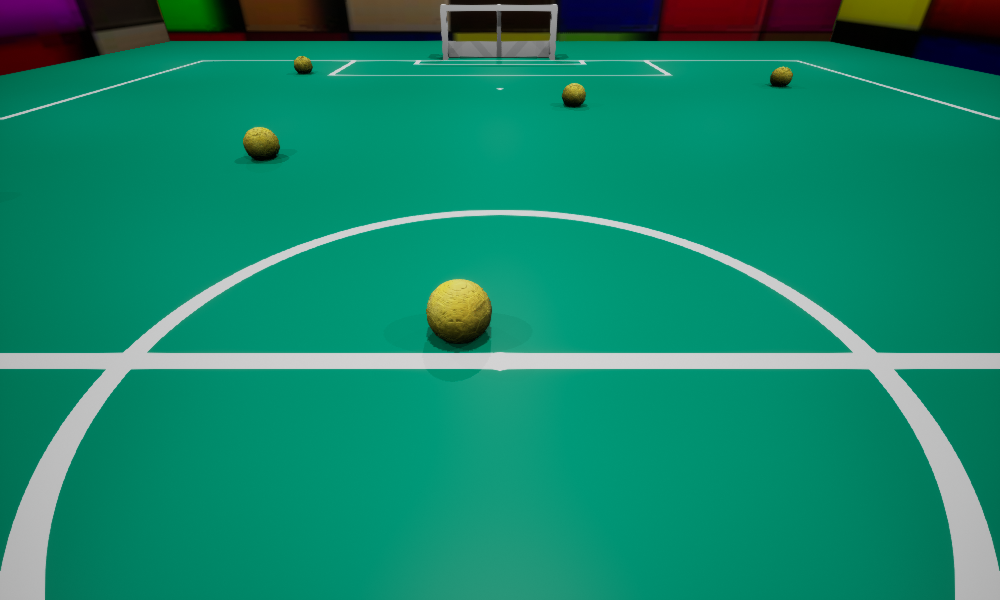b: (426, 279, 491, 343), (243, 127, 279, 159), (562, 83, 585, 106), (770, 66, 792, 86), (294, 56, 312, 73)
g: (440, 4, 557, 59)
